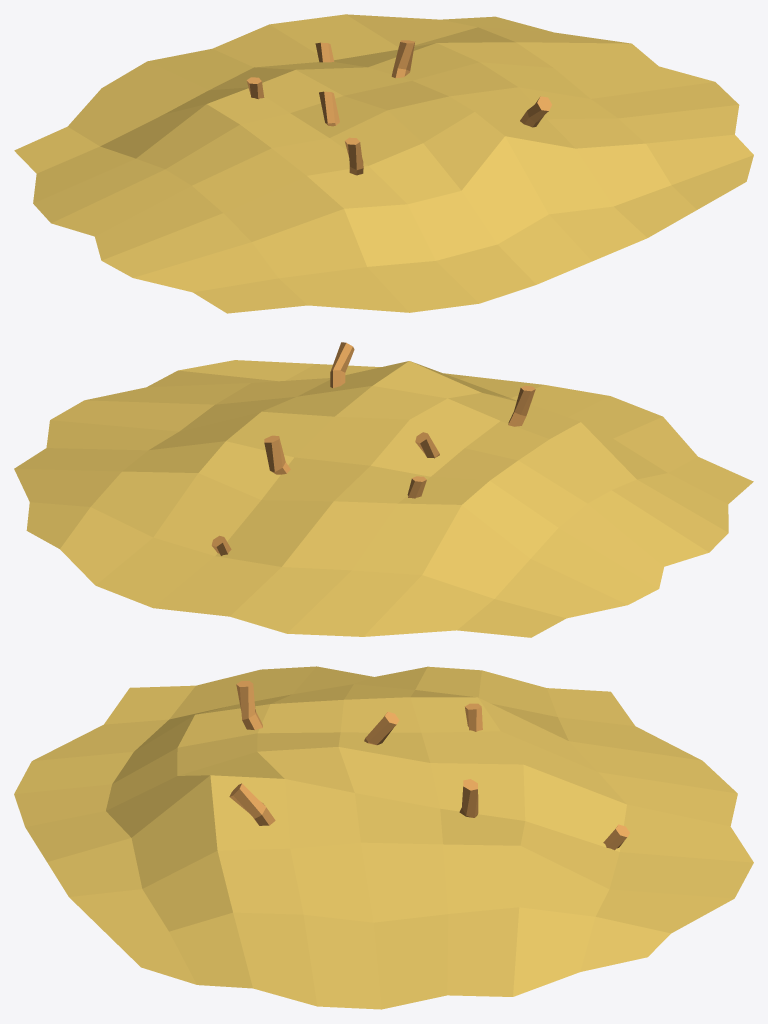
The model's file is sandpuddle03.fbx.
3 views of the same model, one above another, from view 1: azimuth 30°, elevation 25°; view 2: azimuth 150°, elevation 25°; view 3: azimuth 270°, elevation 25° (orthographic). The views are drawn at different scales.
Parts seen in each view (by area): view 1: Circle.006; view 2: Circle.006; view 3: Circle.006.
Boxes of the visible parts, bbox=[...] form: Circle.006: bbox=[14, 14, 753, 313]; Circle.006: bbox=[14, 342, 753, 637]; Circle.006: bbox=[14, 666, 753, 1009].
Size of the model in its own units: 2.52 by 0.4402 by 2.3.
